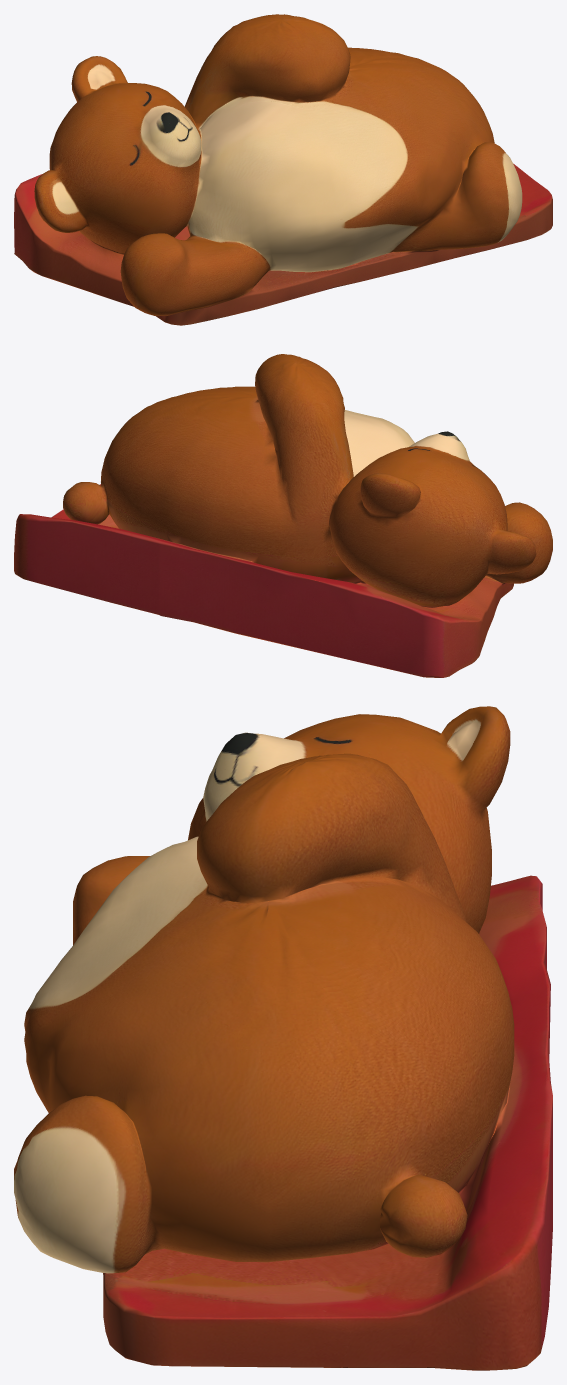
File: bramble_bear_a.glb
The picture shows the model from 3 angles, top to bottom: view 1: azimuth 30°, elevation 25°; view 2: azimuth 150°, elevation 25°; view 3: azimuth 270°, elevation 25°; orthographic projection. The views are drawn at different scales.
Bounding box in the file's own units: 1.91 × 0.865 × 1.04.
1 material, 1 textured.
